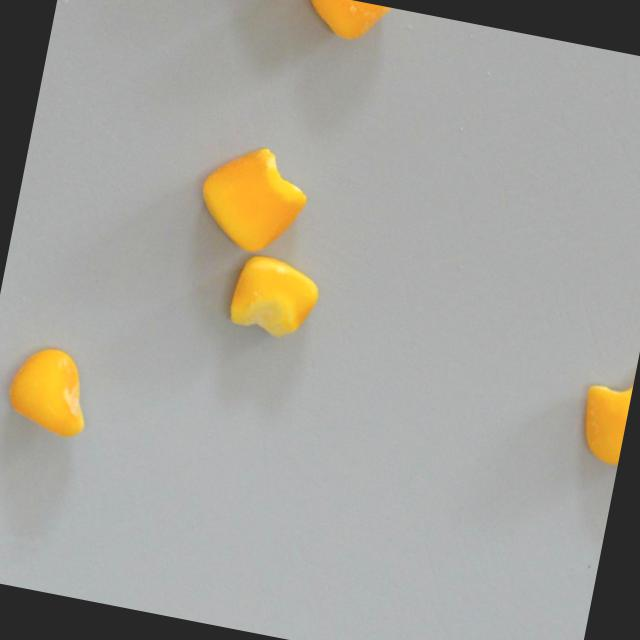no_canjicado: (191, 137, 315, 262), (223, 252, 324, 346), (574, 364, 636, 468)
pelicula: (1, 342, 99, 443), (298, 0, 395, 50)
